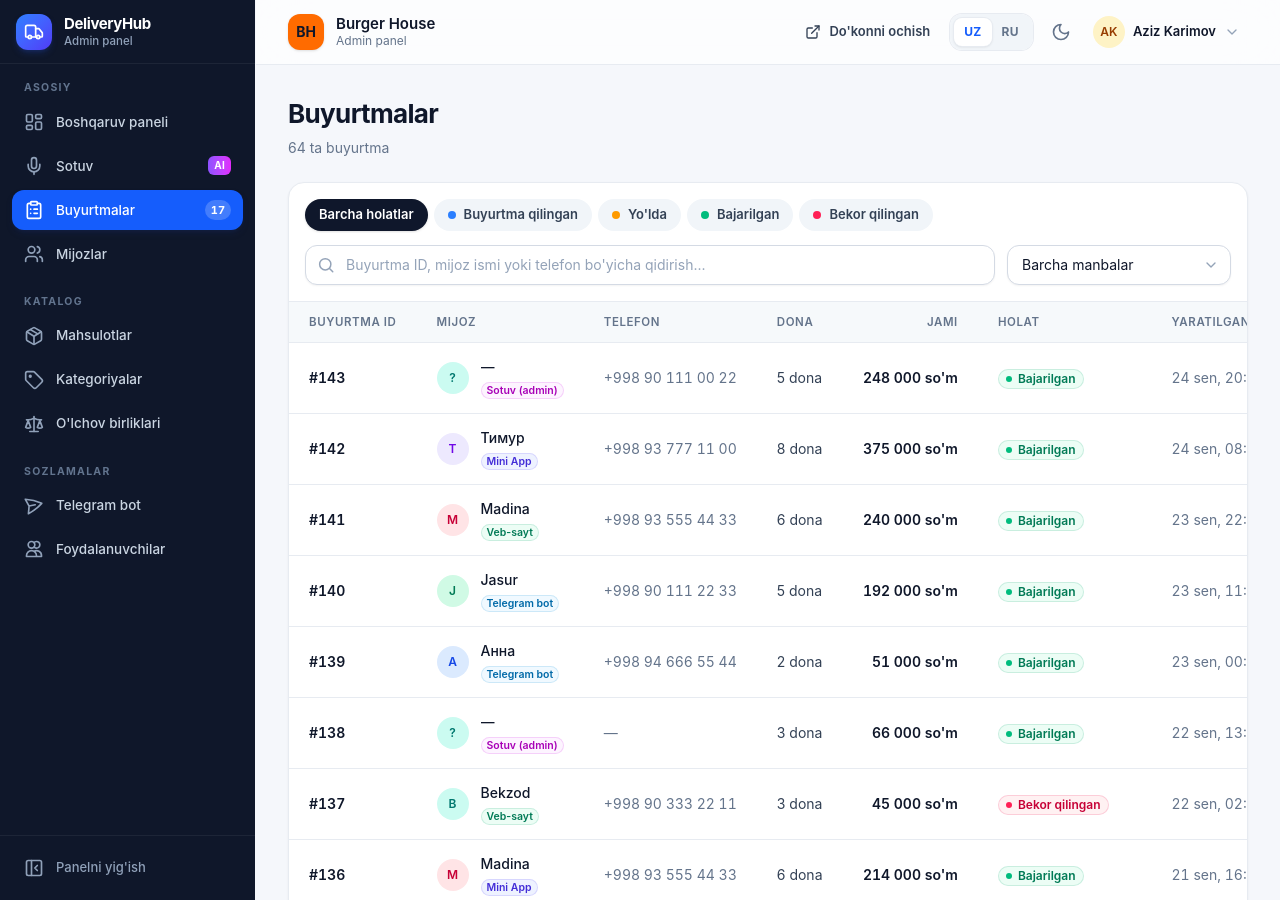
Test: orders list › filters by status, source and search (kept in the URL)
Expected: the link "#143" is shown, [309,369,345,386]
Click the button "Yo'lda": point(639, 215) [598,199,681,231]
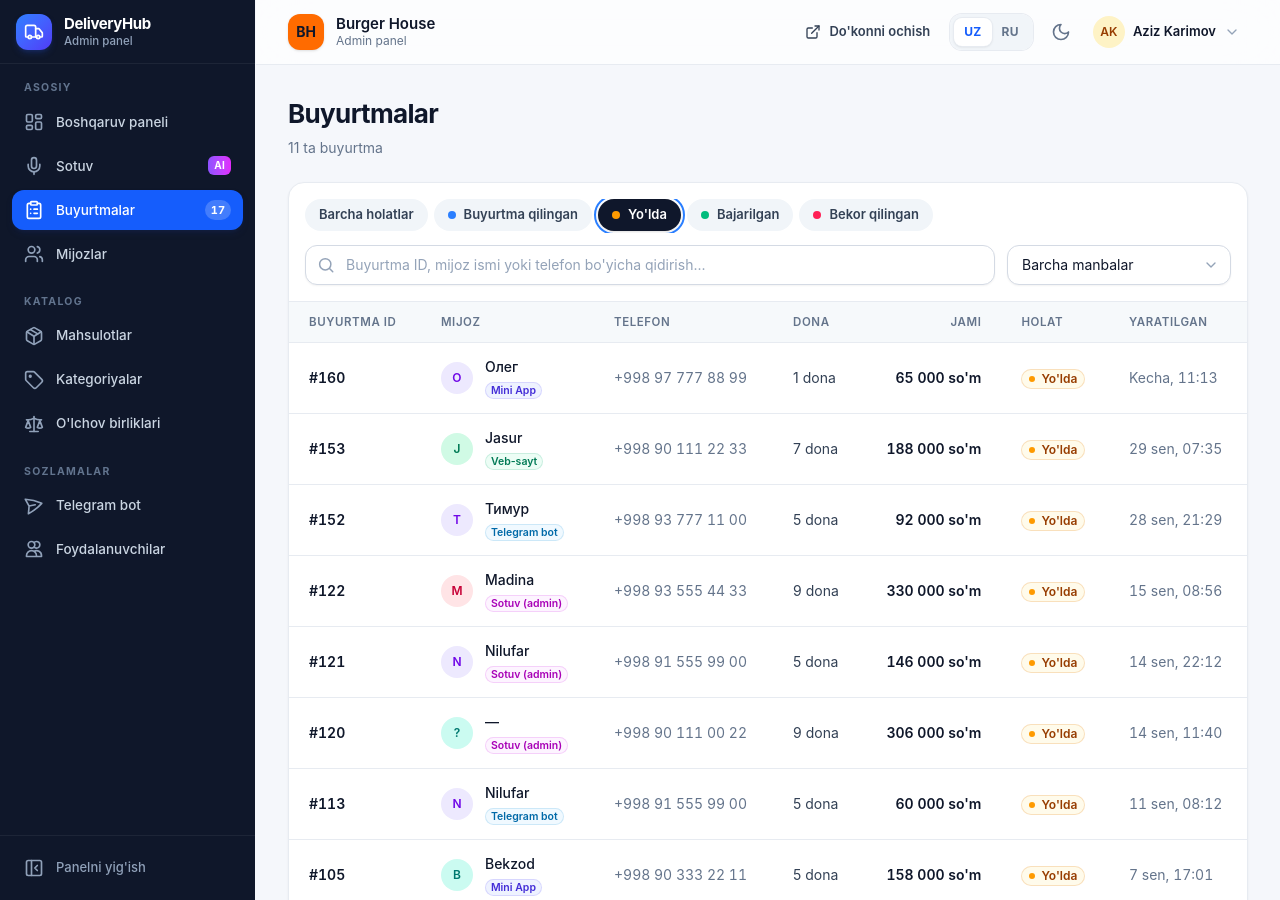
Now the text "Yo'lda" is shown, box [1021,369,1085,389]
Select "Mini App" in the dropdown named "Manba": point(1119, 265) [1007,245,1231,285]
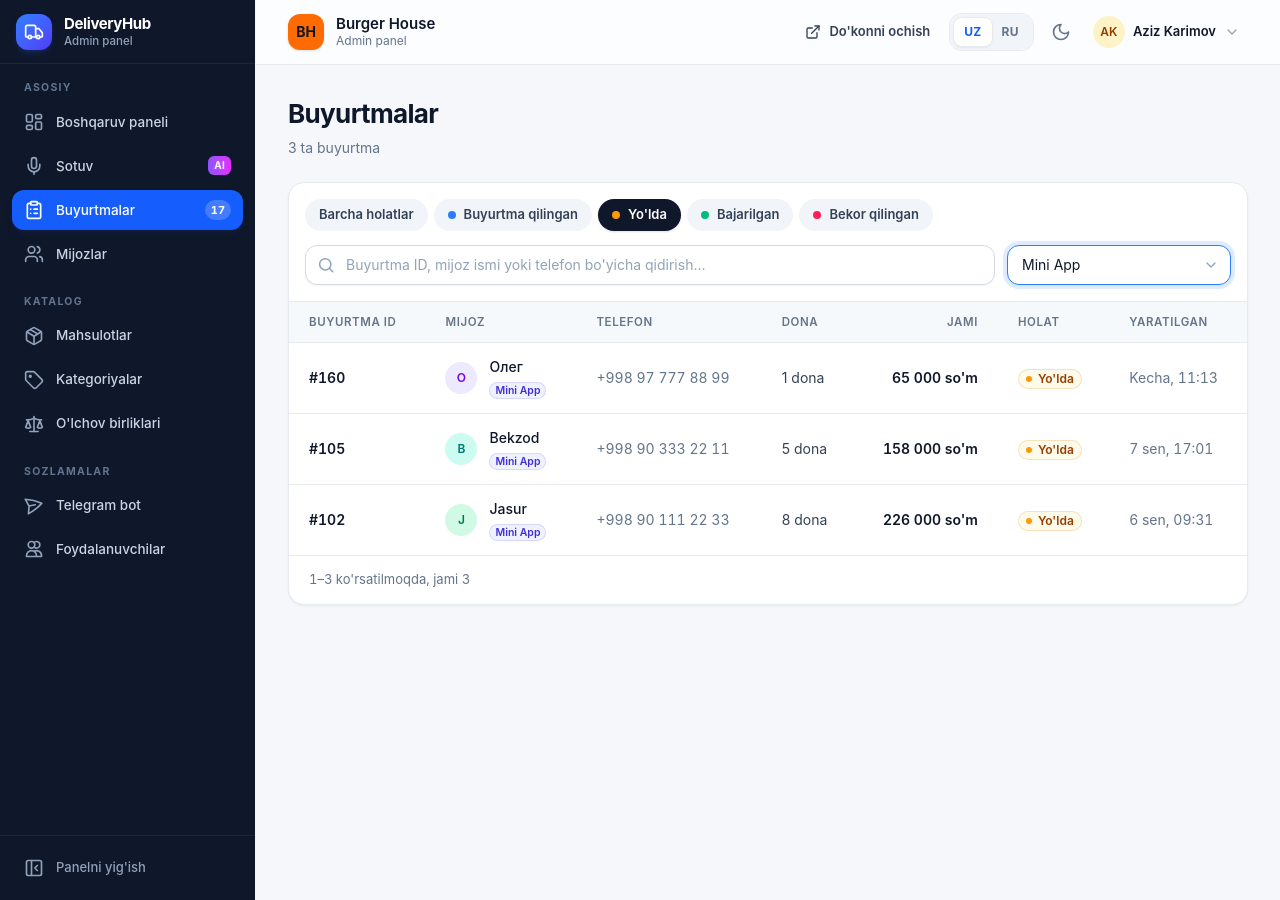
Click the button "Barcha holatlar": point(366, 215) [305,199,428,231]
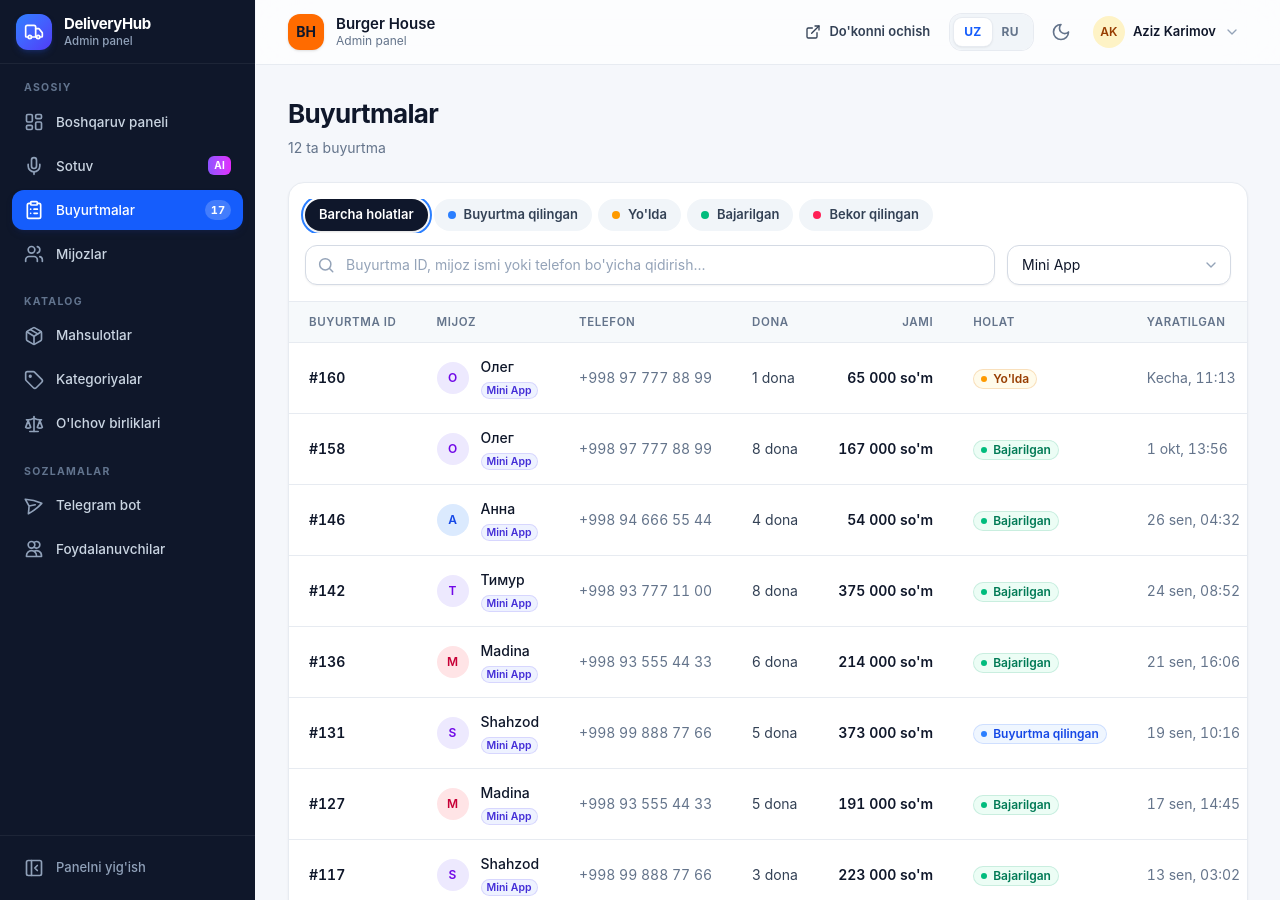
Select "Barcha manbalar" in the dropdown named "Manba": point(1119, 265) [1007,245,1231,285]
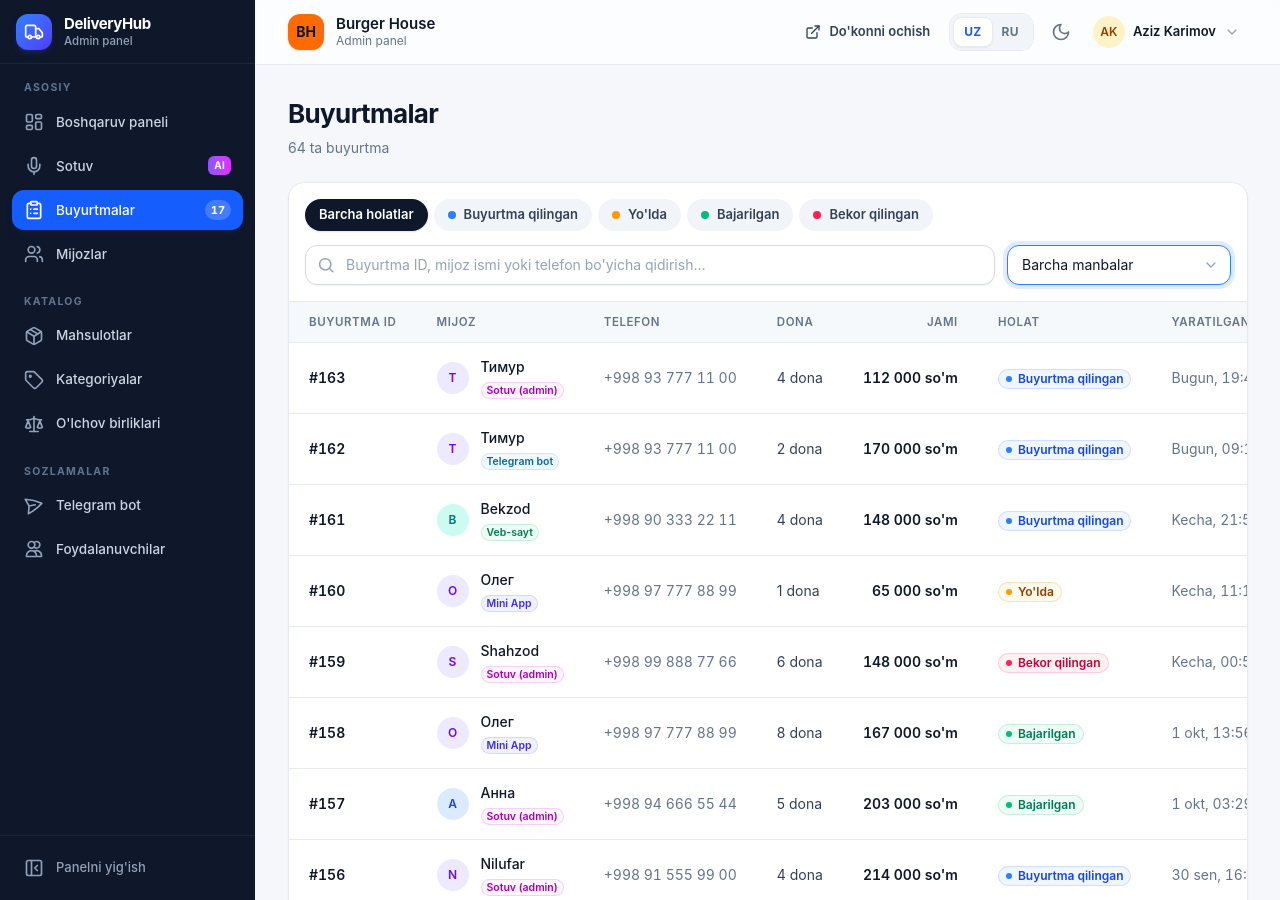
In the search field: point(650, 265) [305,245,995,285], type "Bekzod"
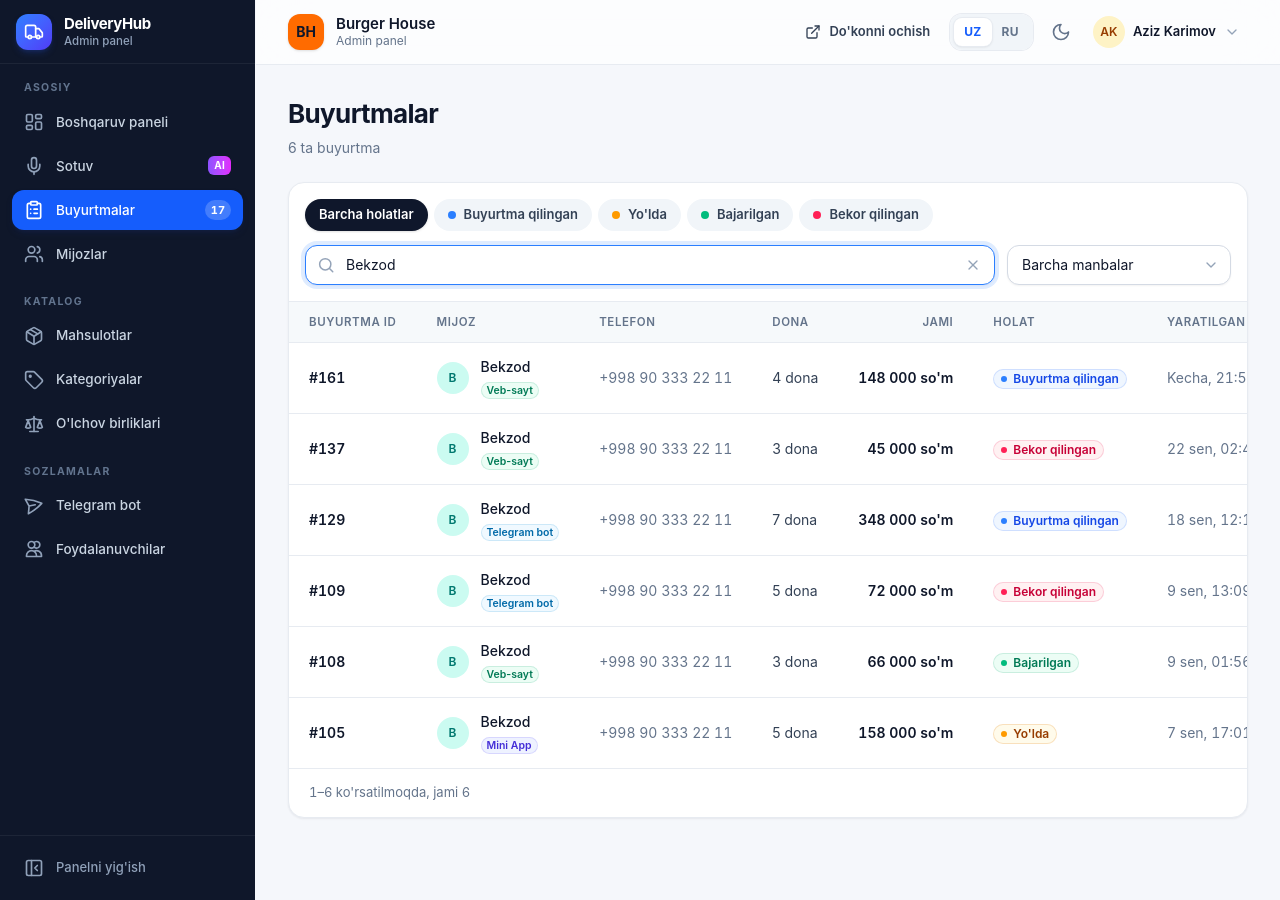
Now the text "Bekzod" in the row of "137" is shown, box [480,429,530,446]
Now the text "Bekzod" in the row of "109" is shown, box [480,571,530,588]
Now the text "Bekzod" in the row of "108" is shown, box [480,642,530,659]
